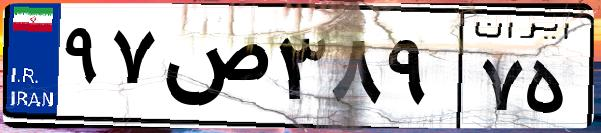3: (270, 28, 330, 110)
5: (525, 38, 570, 115)
7: (475, 38, 525, 113), (110, 28, 158, 98)
8: (330, 28, 385, 110)
9: (385, 28, 445, 110), (57, 26, 110, 100)
ص: (158, 20, 270, 120)
